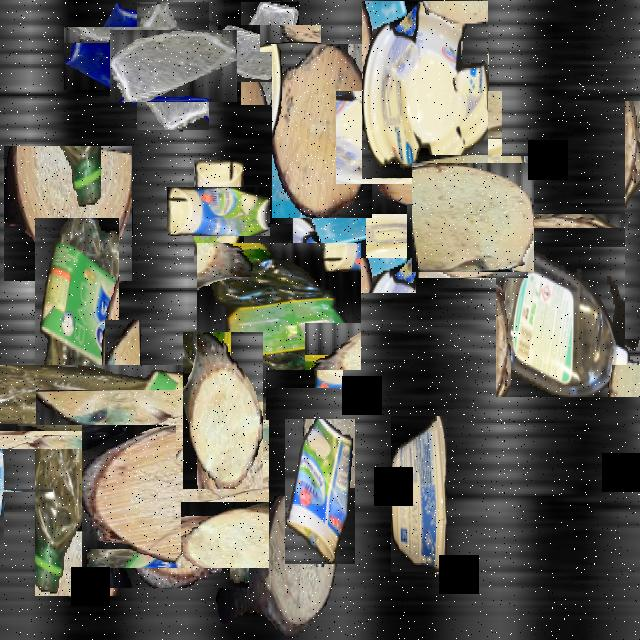glass: (354, 72, 484, 202), (308, 151, 434, 276), (123, 16, 223, 116), (76, 14, 166, 103), (230, 13, 310, 94), (0, 463, 28, 517)
plastic: (0, 291, 192, 522), (362, 2, 488, 180), (496, 247, 640, 397), (206, 233, 352, 379), (285, 420, 355, 566), (569, 157, 640, 283), (391, 416, 447, 572), (181, 173, 257, 250)
wood: (91, 410, 259, 578), (215, 496, 337, 638), (272, 45, 372, 218), (4, 146, 132, 281), (415, 159, 531, 275), (183, 332, 263, 489), (70, 354, 176, 460), (628, 212, 640, 400), (0, 376, 27, 430)
